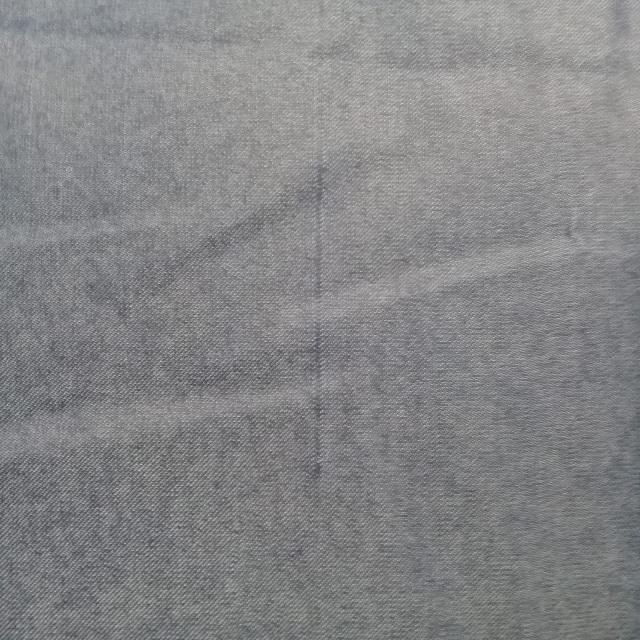Line: (308, 0, 330, 489)
